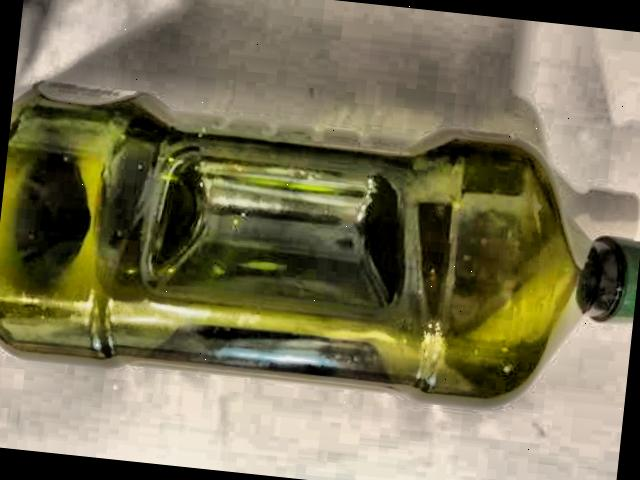Bottles: (0, 48, 640, 456)
